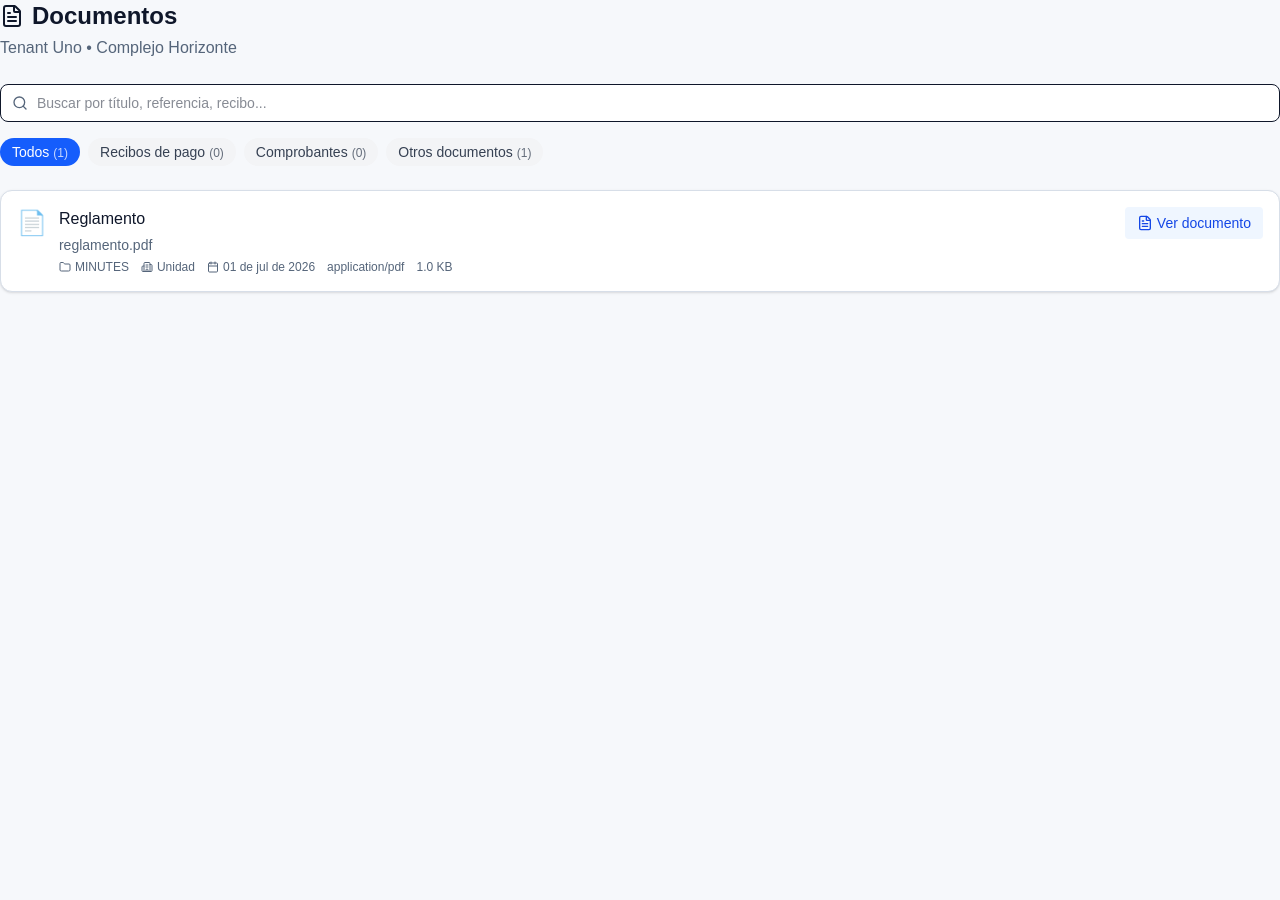
Test: ResidentDocumentsPage › Modal › opens modal from "Ver documento" and shows PDF iframe
What coordinates should you click on to do the following:
click the button with aria-label "ver documento reglamento"
I would click on:
 (1194, 223)
Its box is left=1125, top=207, right=1263, bottom=239.
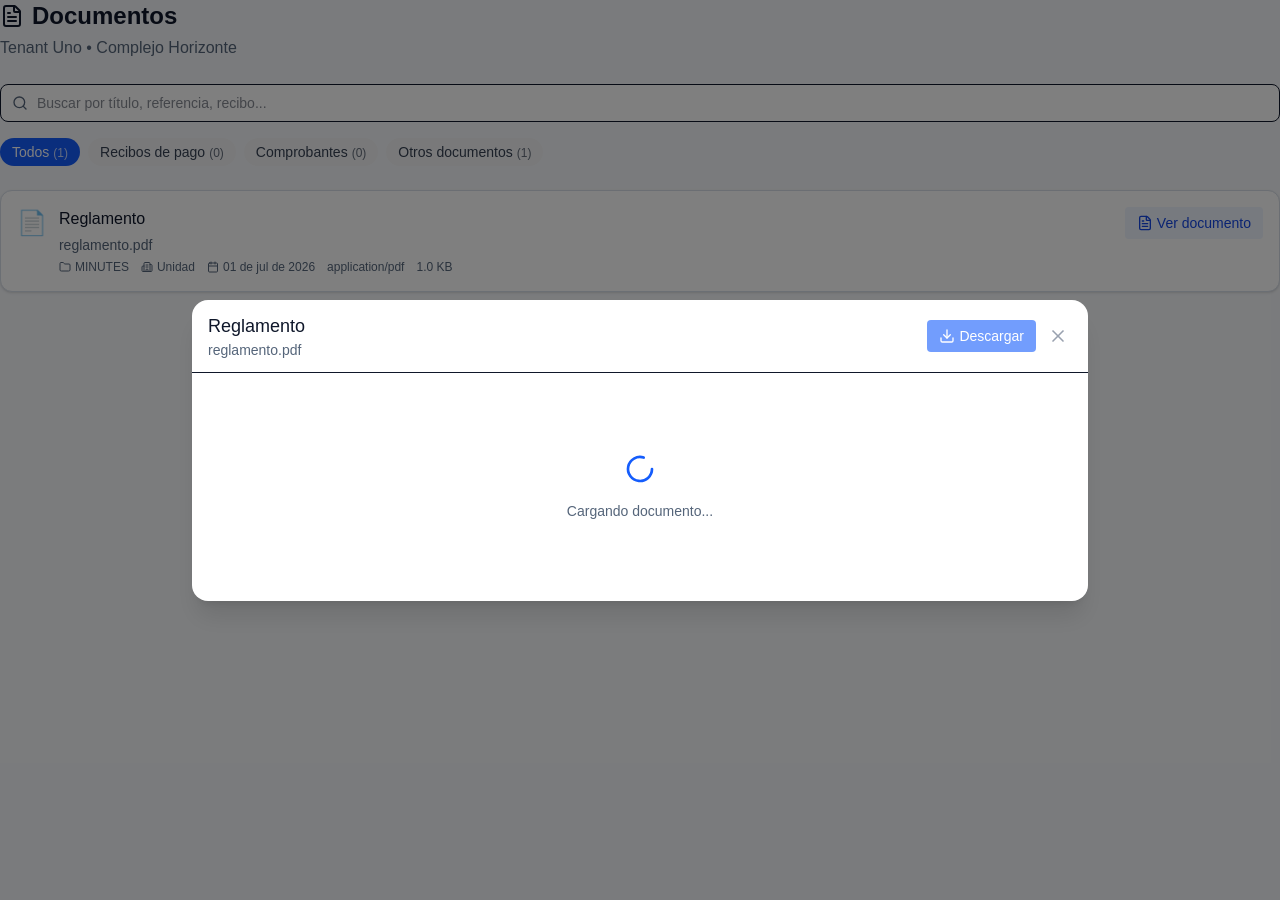
expect the dialog is shown: met
expect the text "Cargando documento..." is shown: met, box left=567, top=500, right=713, bottom=520
expect the heading "Reglamento" is shown: met, box left=208, top=316, right=305, bottom=336
